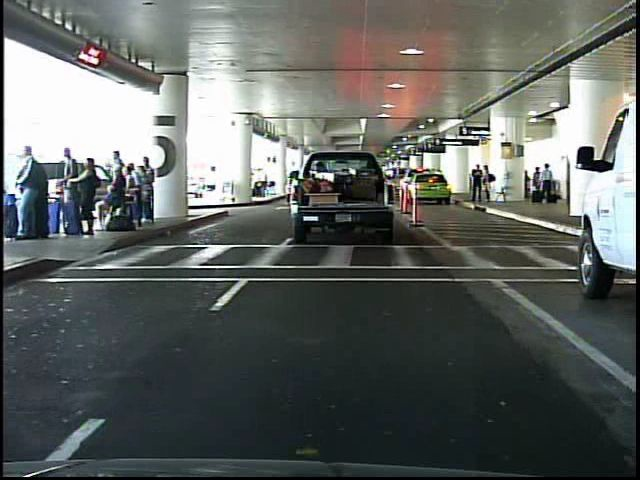person: (479, 164, 494, 205), (469, 162, 482, 205)
